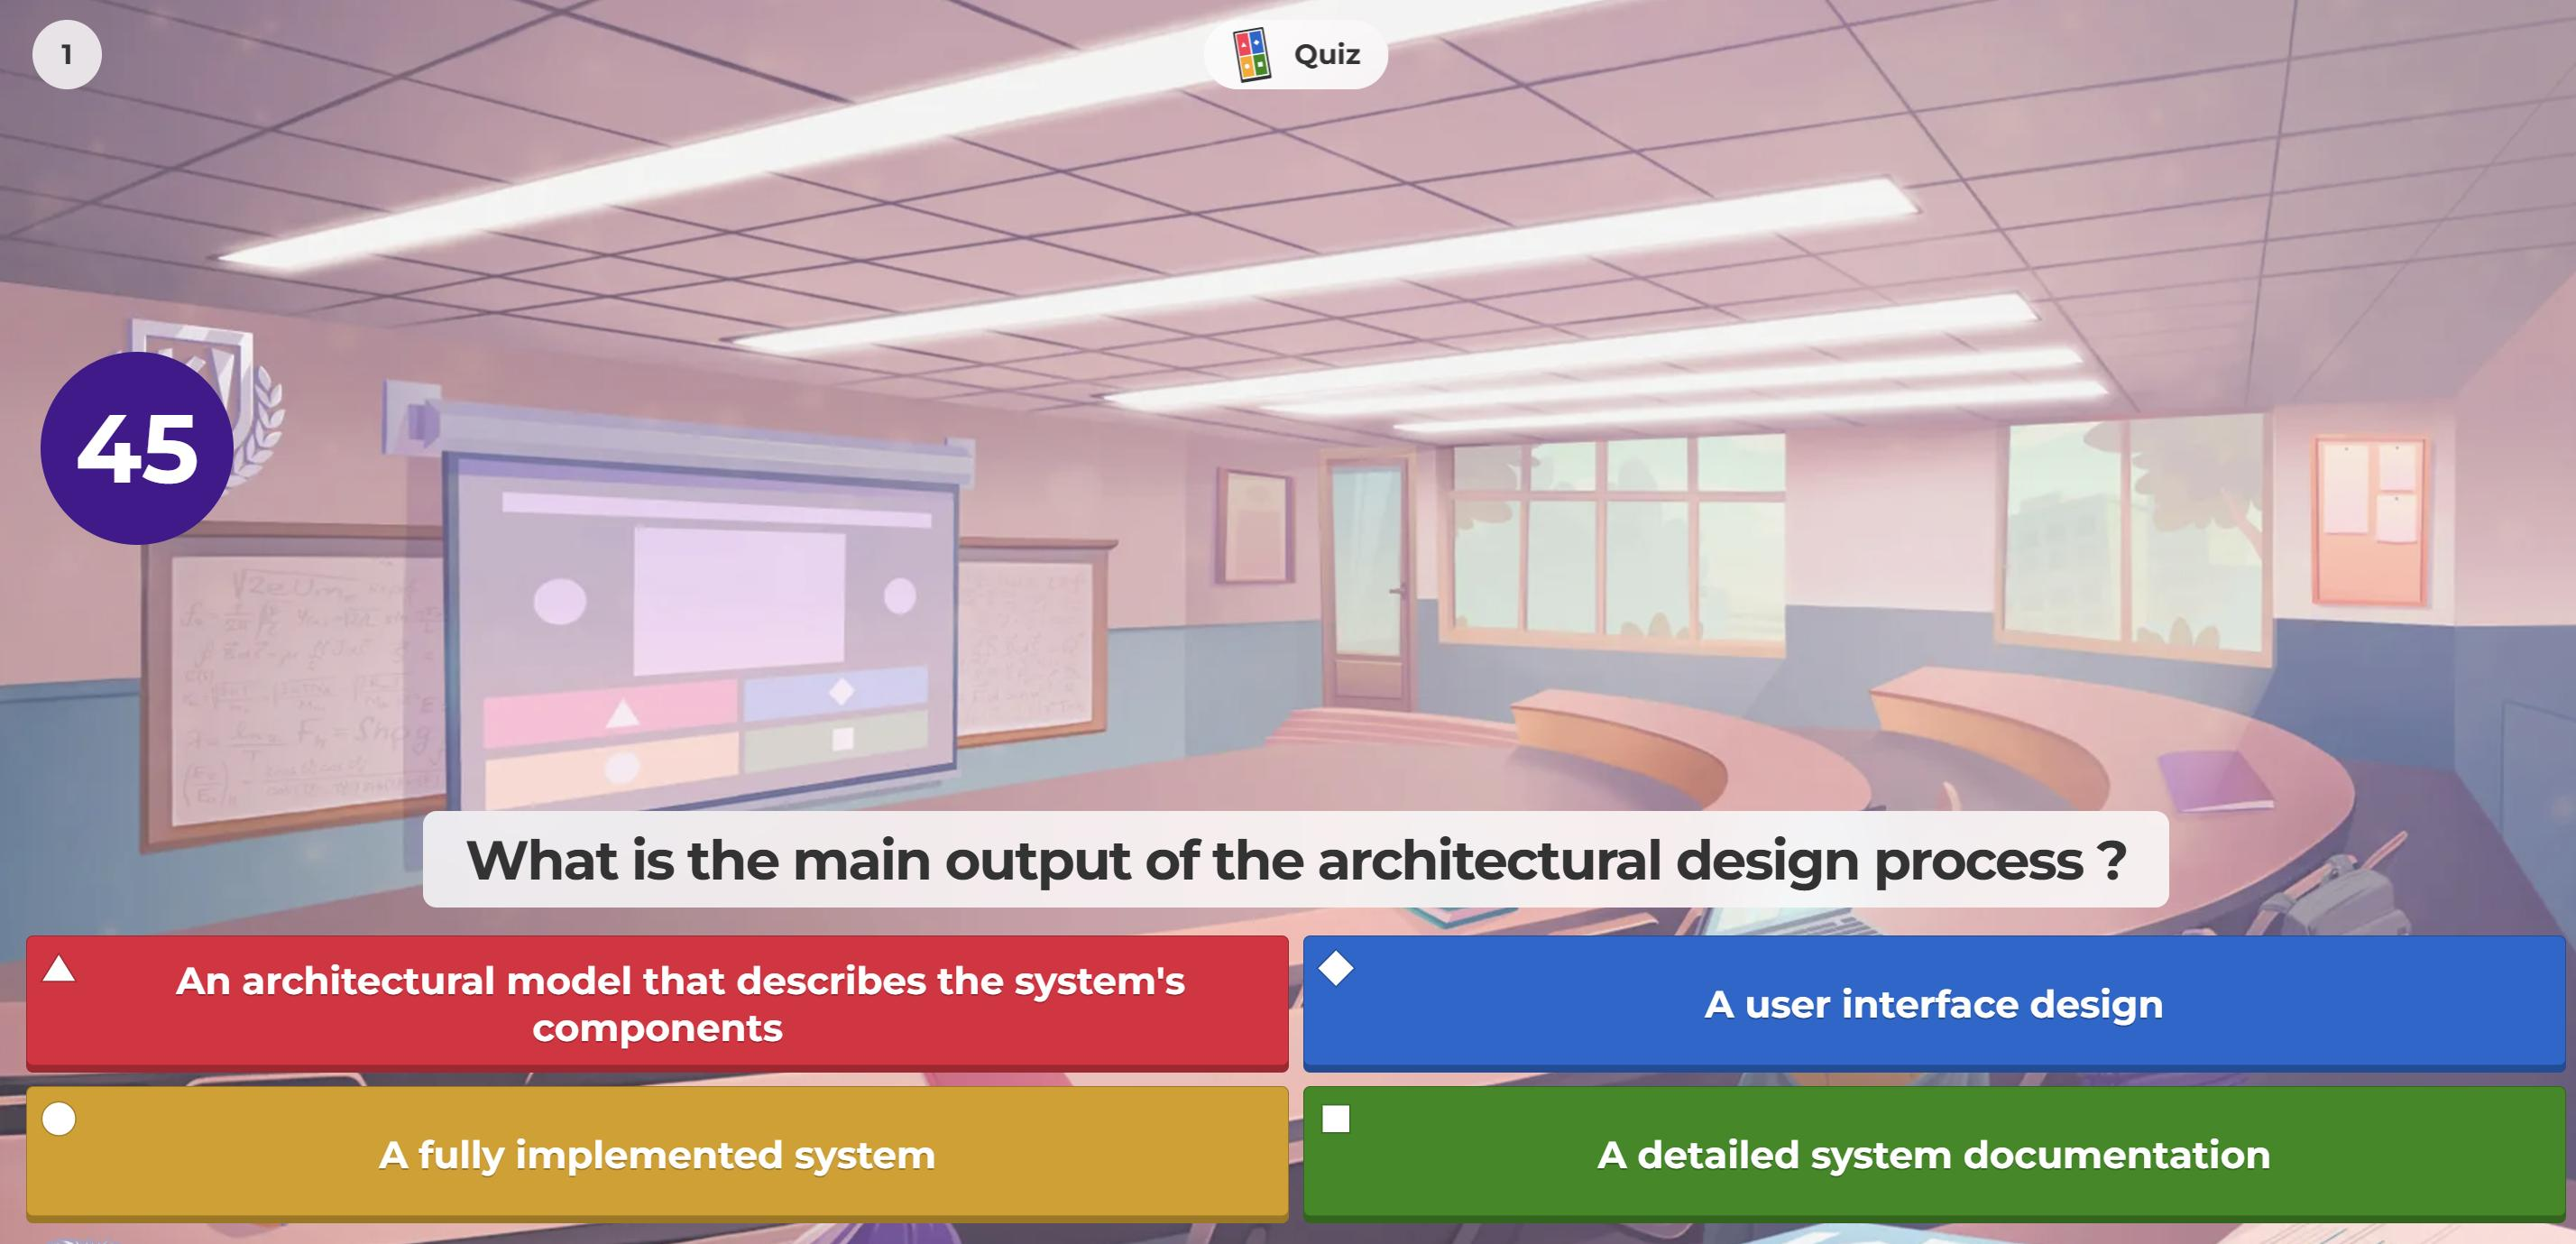answer_blue: (1306, 942, 2561, 1058)
answer_green: (1314, 1094, 2555, 1211)
answer_red: (30, 943, 1285, 1058)
answer_yellow: (34, 1094, 1281, 1214)
question_box: (427, 815, 2164, 905)
